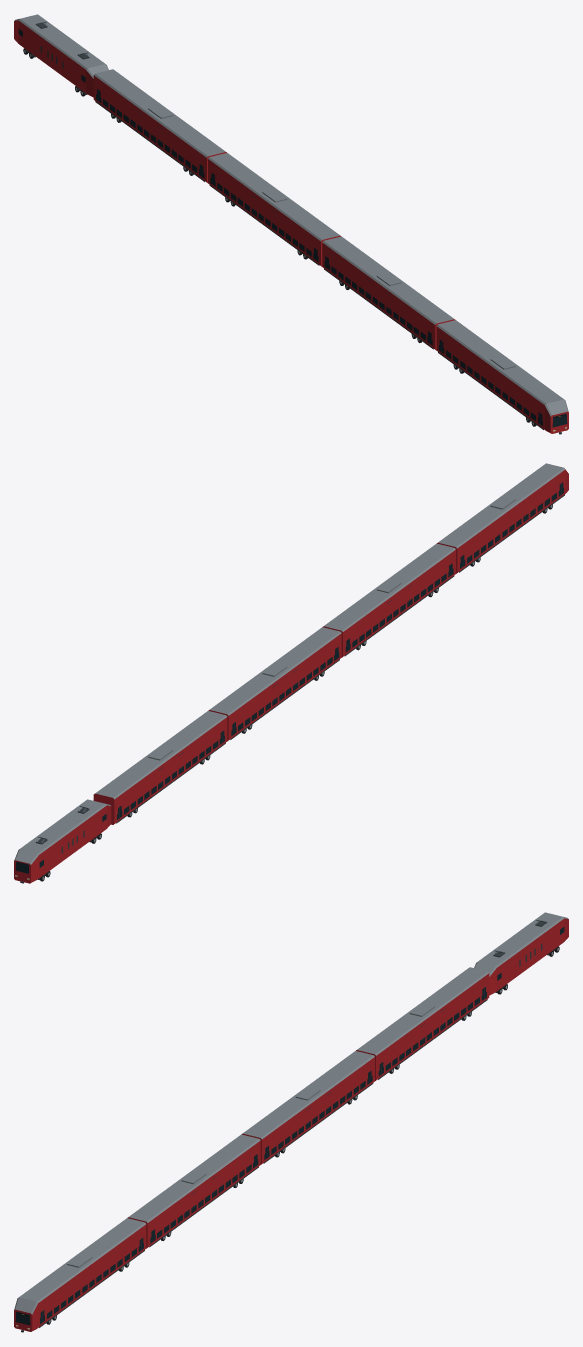
Rendered from db-regio-dosto.glb.
The picture shows the model from 3 angles, top to bottom: view 1: azimuth 30°, elevation 25°; view 2: azimuth 150°, elevation 25°; view 3: azimuth 330°, elevation 25°; orthographic projection.
Visible parts, largest first — view 1: db-regio-dosto.segment-01.005, db-regio-dosto.segment-03.005, db-regio-dosto.segment-04.005, db-regio-dosto.segment-02.005, db-regio-dosto.segment-05.005; view 2: db-regio-dosto.segment-04.005, db-regio-dosto.segment-02.005, db-regio-dosto.segment-03.005, db-regio-dosto.segment-01.005, db-regio-dosto.segment-05.005; view 3: db-regio-dosto.segment-01.005, db-regio-dosto.segment-03.005, db-regio-dosto.segment-04.005, db-regio-dosto.segment-02.005, db-regio-dosto.segment-05.005.
Boxes of the visible parts, x1,y1,x2,y2 form: db-regio-dosto.segment-01.005: [436, 320, 568, 434]; db-regio-dosto.segment-03.005: [208, 153, 341, 266]; db-regio-dosto.segment-04.005: [93, 69, 226, 182]; db-regio-dosto.segment-02.005: [322, 236, 455, 350]; db-regio-dosto.segment-05.005: [14, 14, 108, 97]; db-regio-dosto.segment-04.005: [93, 711, 227, 824]; db-regio-dosto.segment-02.005: [322, 543, 455, 657]; db-regio-dosto.segment-03.005: [208, 627, 341, 741]; db-regio-dosto.segment-01.005: [437, 463, 568, 573]; db-regio-dosto.segment-05.005: [14, 799, 111, 883]; db-regio-dosto.segment-01.005: [14, 1218, 146, 1332]; db-regio-dosto.segment-03.005: [241, 1051, 374, 1164]; db-regio-dosto.segment-04.005: [356, 967, 489, 1080]; db-regio-dosto.segment-02.005: [127, 1134, 260, 1248]; db-regio-dosto.segment-05.005: [474, 912, 568, 995].
Size of the model in its own units: 2.85 by 4.58 by 127.
